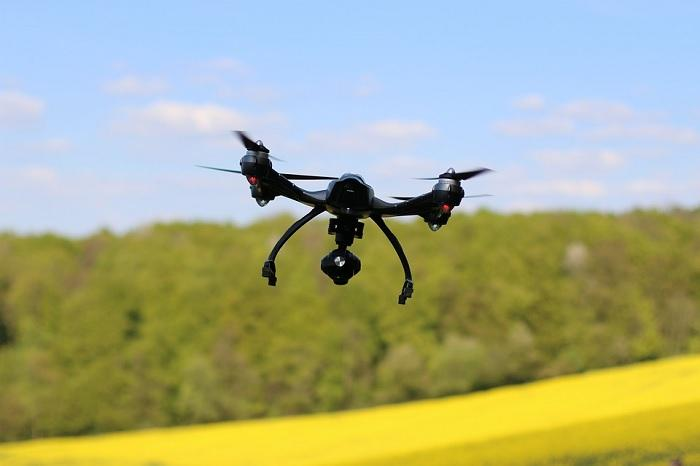drone_other: (195, 127, 495, 308)
